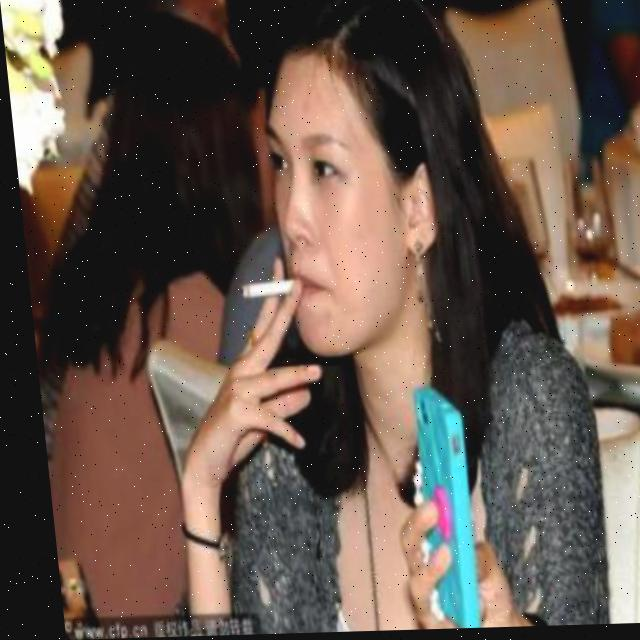cigarette: (230, 275, 294, 304)
